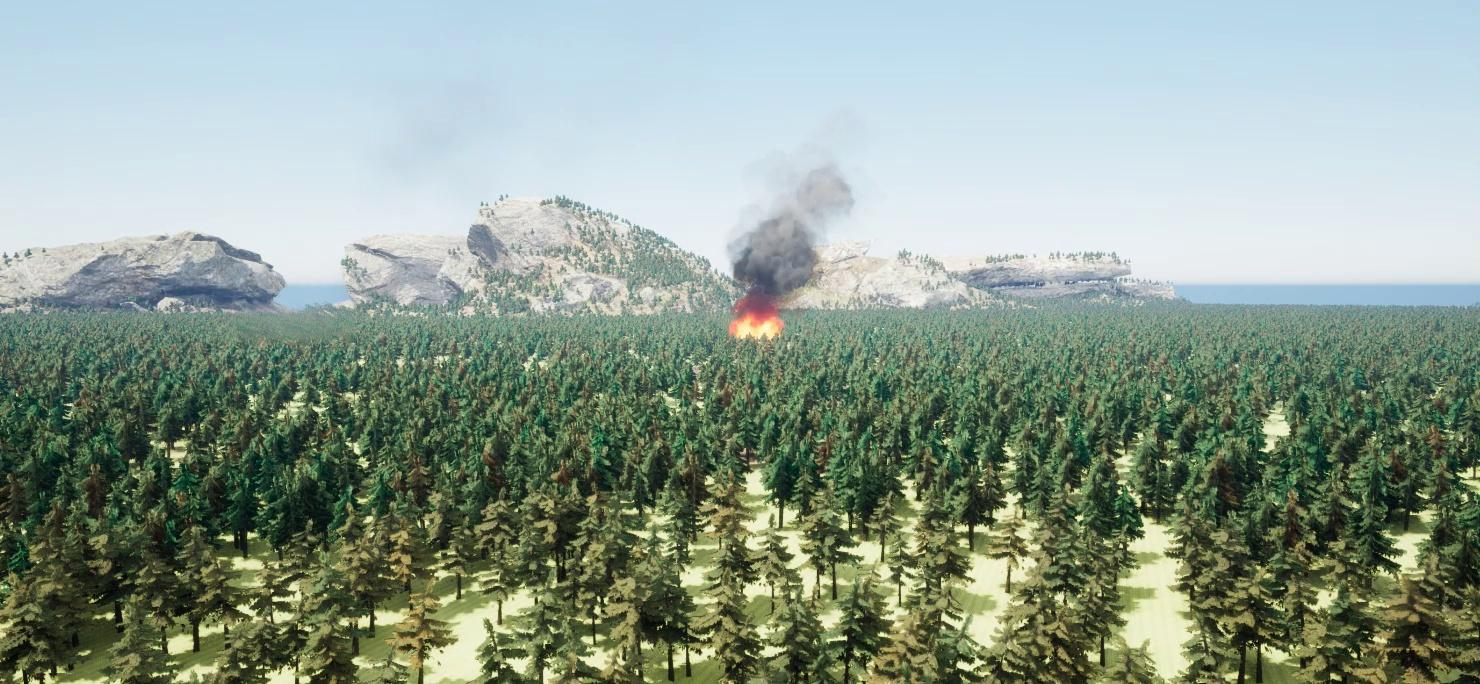fire: (727, 304, 795, 344)
smoke: (727, 153, 859, 306)
